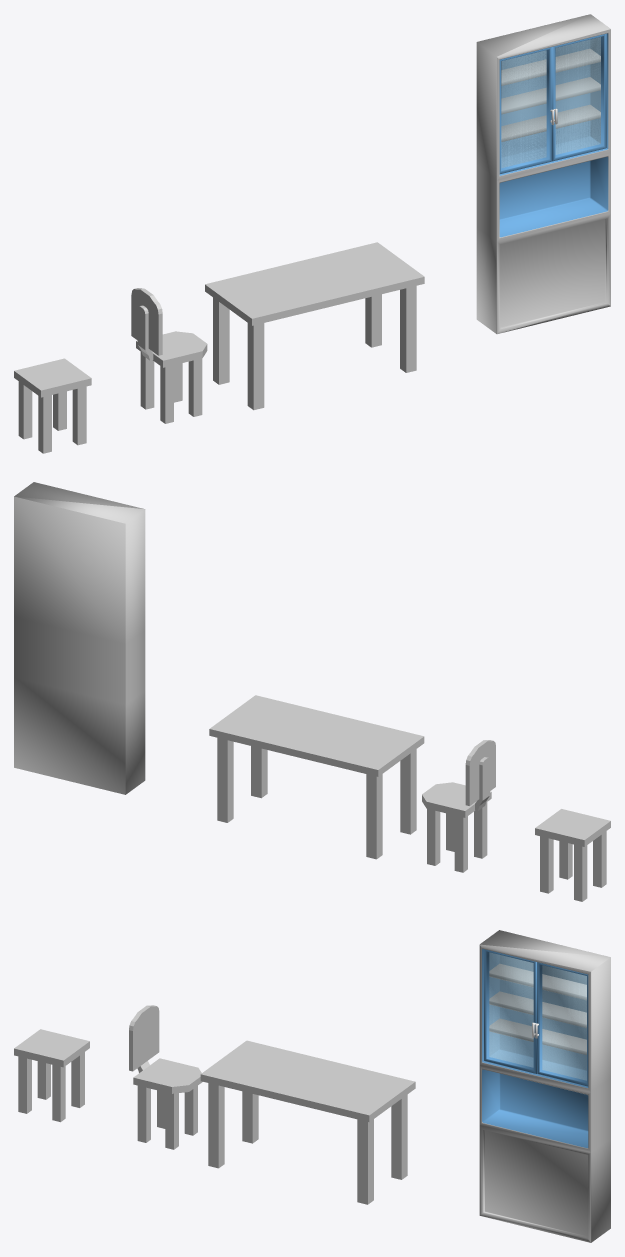
The model's file is simple_Furniture.fbx.
3 views of the same model, one above another, from view 1: azimuth 30°, elevation 25°; view 2: azimuth 150°, elevation 25°; view 3: azimuth 330°, elevation 25° (orthographic). The views are drawn at different scales.
Visible parts, largest first — view 1: Proto-Shelfcase, Proto-table, RightDoor, LeftDoor, Proto-chair, Proto-chair2; view 2: Proto-Shelfcase, Proto-table, Proto-chair, Proto-chair2; view 3: Proto-Shelfcase, Proto-table, LeftDoor, Proto-chair, RightDoor, Proto-chair2.
Part boxes in pixels (<box>): Proto-Shelfcase: <box>476,14,610,333</box>; Proto-table: <box>205,242,424,410</box>; RightDoor: <box>552,33,606,161</box>; LeftDoor: <box>499,47,554,173</box>; Proto-chair: <box>131,288,207,423</box>; Proto-chair2: <box>14,358,91,453</box>; Proto-Shelfcase: <box>14,482,145,794</box>; Proto-table: <box>209,695,424,859</box>; Proto-chair: <box>422,740,495,872</box>; Proto-chair2: <box>535,809,610,901</box>; Proto-Shelfcase: <box>479,930,610,1242</box>; Proto-table: <box>200,1040,415,1204</box>; LeftDoor: <box>484,949,536,1073</box>; Proto-chair: <box>129,1005,202,1149</box>; RightDoor: <box>535,962,588,1086</box>; Proto-chair2: <box>14,1029,89,1122</box>.
Size of the model in its own units: 61.72 by 438 by 200.
